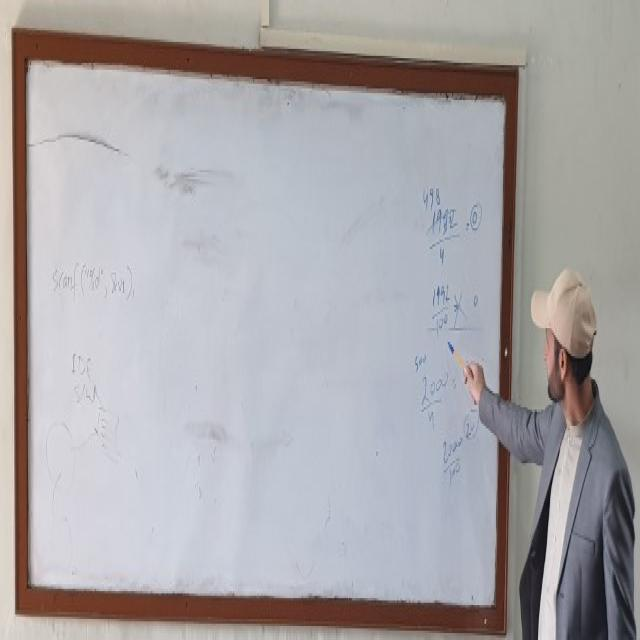Instructor: (503, 256, 632, 640)
White-board: (17, 45, 511, 616)
